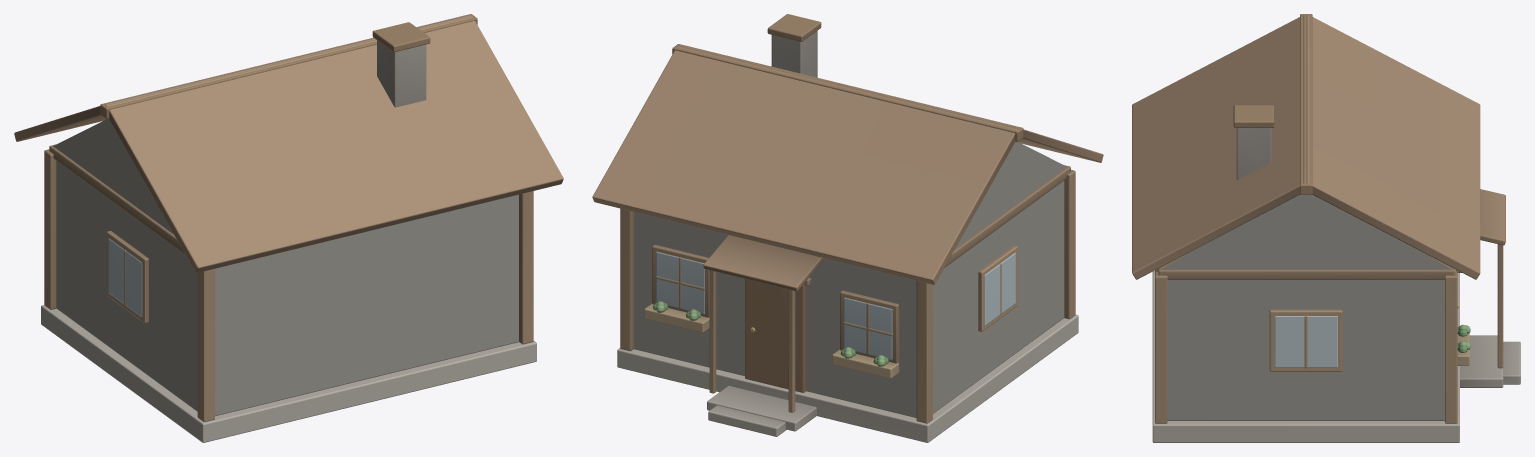
Rendered from home_house__brown.glb.
The picture shows the model from 3 angles, left to right: view 1: azimuth 30°, elevation 25°; view 2: azimuth 150°, elevation 25°; view 3: azimuth 270°, elevation 25°; orthographic projection. The views are drawn at different scales.
Size of the model in its own units: 7 by 5.59 by 6.7.
